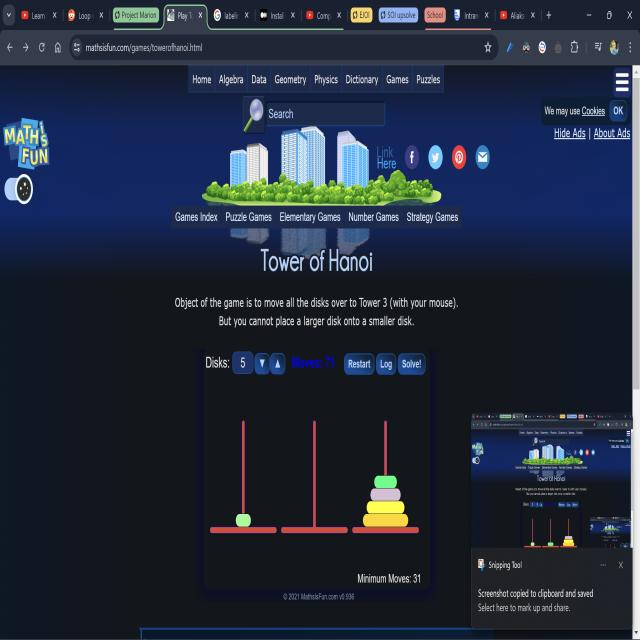disk1: (236, 514, 251, 526)
disk2: (374, 475, 397, 488)
disk3: (370, 489, 401, 501)
disk4: (366, 501, 404, 514)
disk5: (363, 515, 408, 527)
